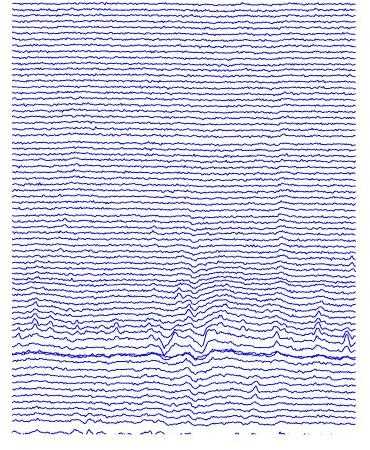defect: (185, 316, 210, 362), (155, 322, 175, 360), (311, 301, 325, 351), (27, 296, 44, 337), (270, 318, 283, 357), (340, 327, 353, 354), (111, 315, 119, 344), (252, 380, 260, 405)
